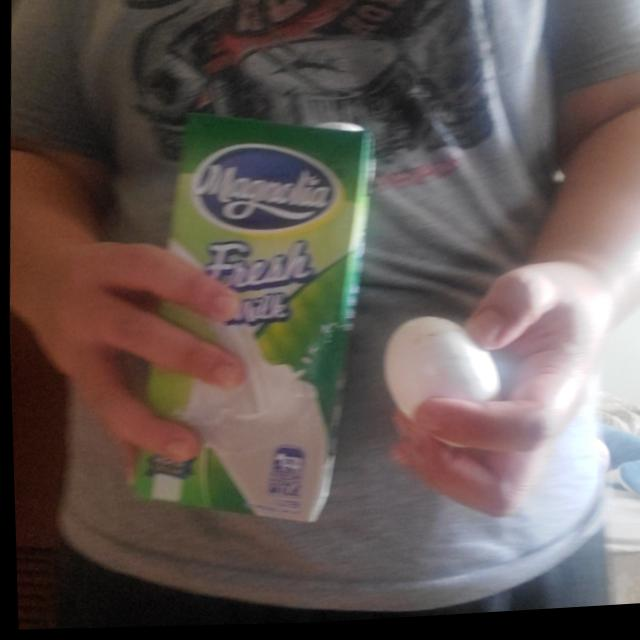egg: (380, 317, 503, 436)
milk: (111, 115, 393, 536)
